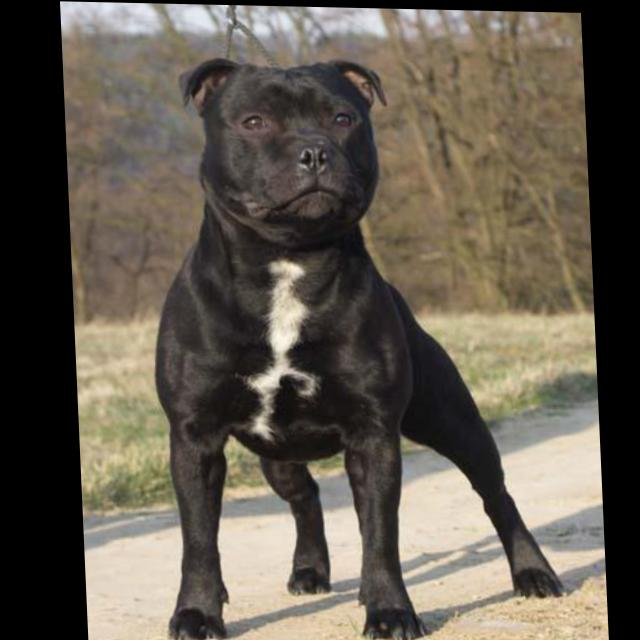staffford: (137, 52, 561, 640)
